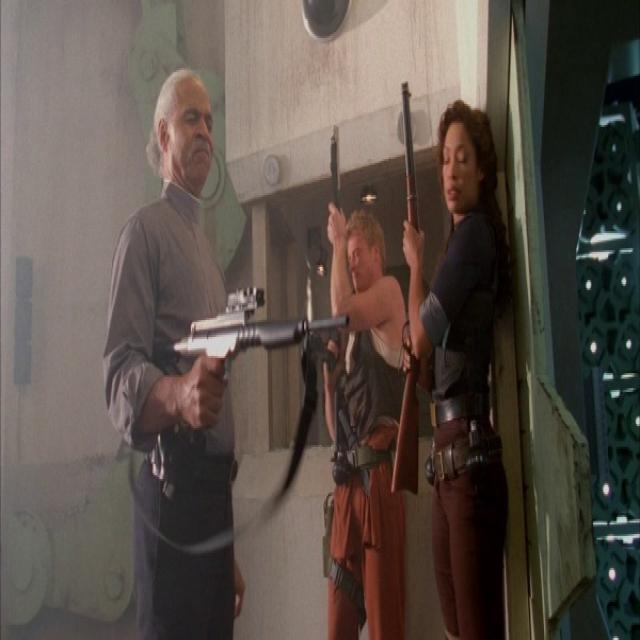rifle: (161, 288, 356, 374), (391, 74, 429, 508)
